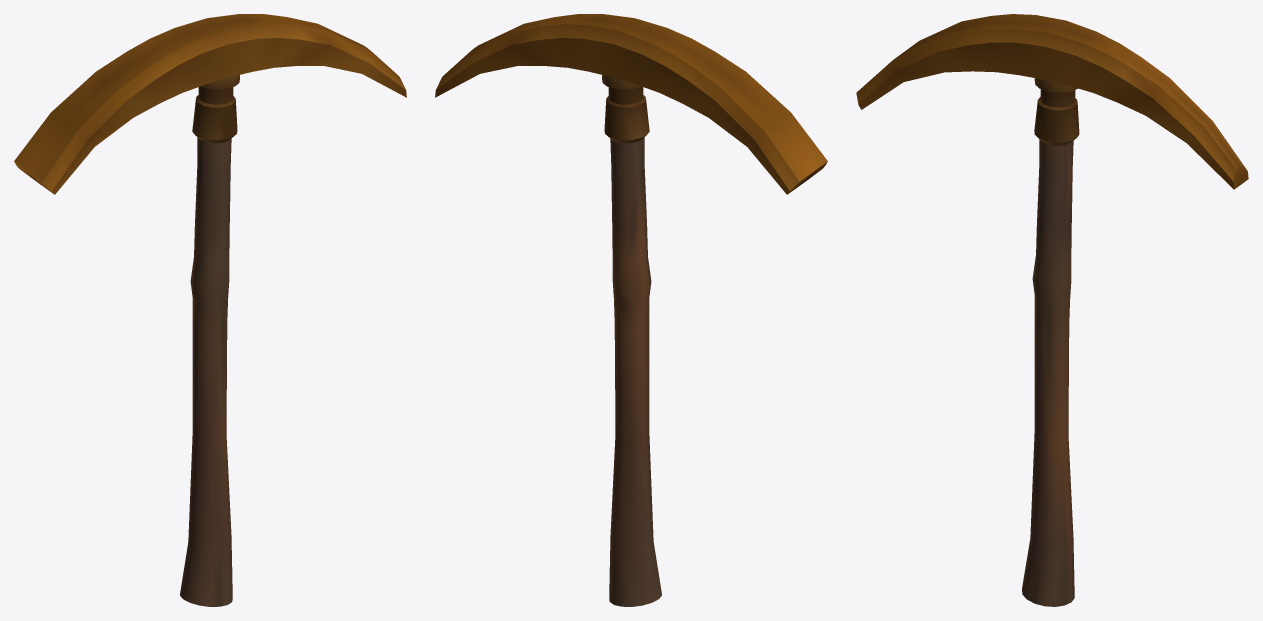
The model's file is pickaxe.glb.
3 renders of one model, left to right at view 1: azimuth 30°, elevation 25°; view 2: azimuth 150°, elevation 25°; view 3: azimuth 330°, elevation 25°, orthographic.
Visible parts, largest first — view 1: pickaxe; view 2: pickaxe; view 3: pickaxe.
Part boxes in pixels (x1,y1,x2,y2): pickaxe: (14,14,406,606); pickaxe: (435,14,827,606); pickaxe: (856,14,1248,606).
Size of the model in its own units: 0.8129 by 1.2 by 0.1357.
